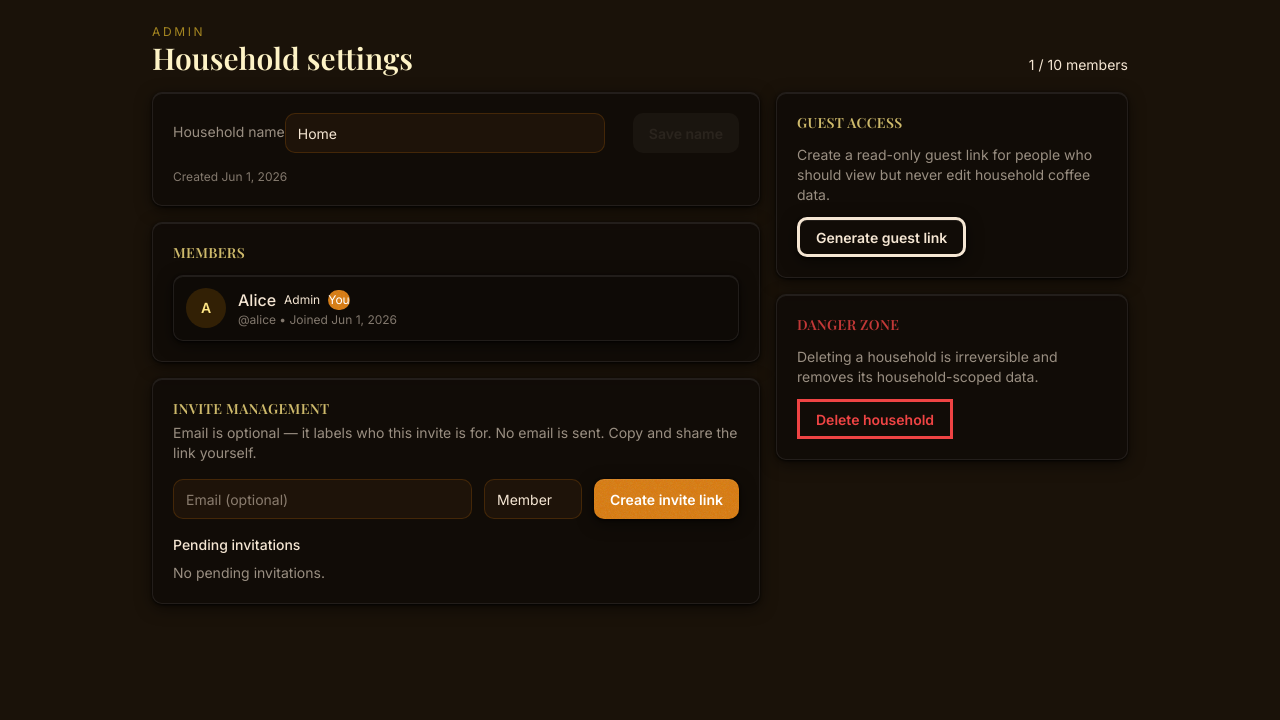
it: HouseholdSettings › wires rename and link-only invitation creation without TODO placeholders
Check: the heading "Household settings" is shown, box top-left (152, 40), bottom-right (413, 76)
Replace the text in the field labelled "Household name" with "Home Bar" at (445, 133), box top-left (285, 113), bottom-right (605, 153)
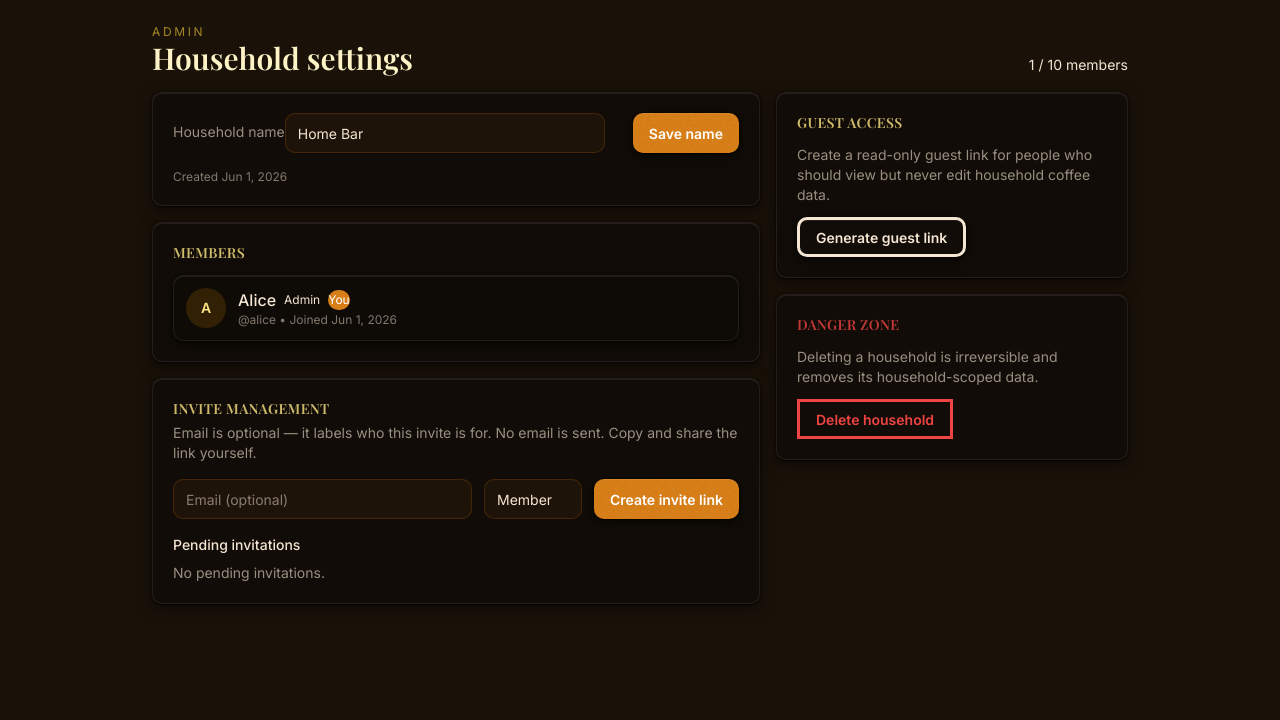
Click the button "Save name".
click(686, 133)  # box top-left (633, 113), bottom-right (739, 153)
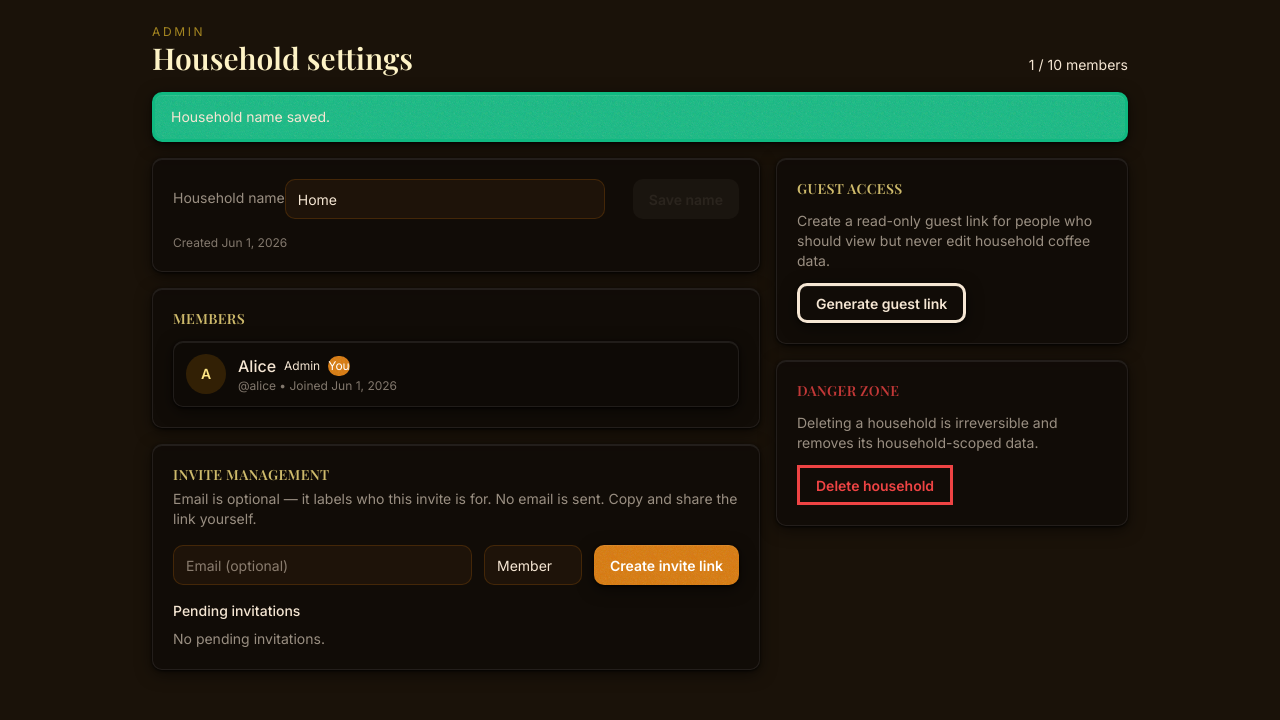
Click the button "Create invite link".
click(666, 565)  # box top-left (594, 545), bottom-right (739, 585)
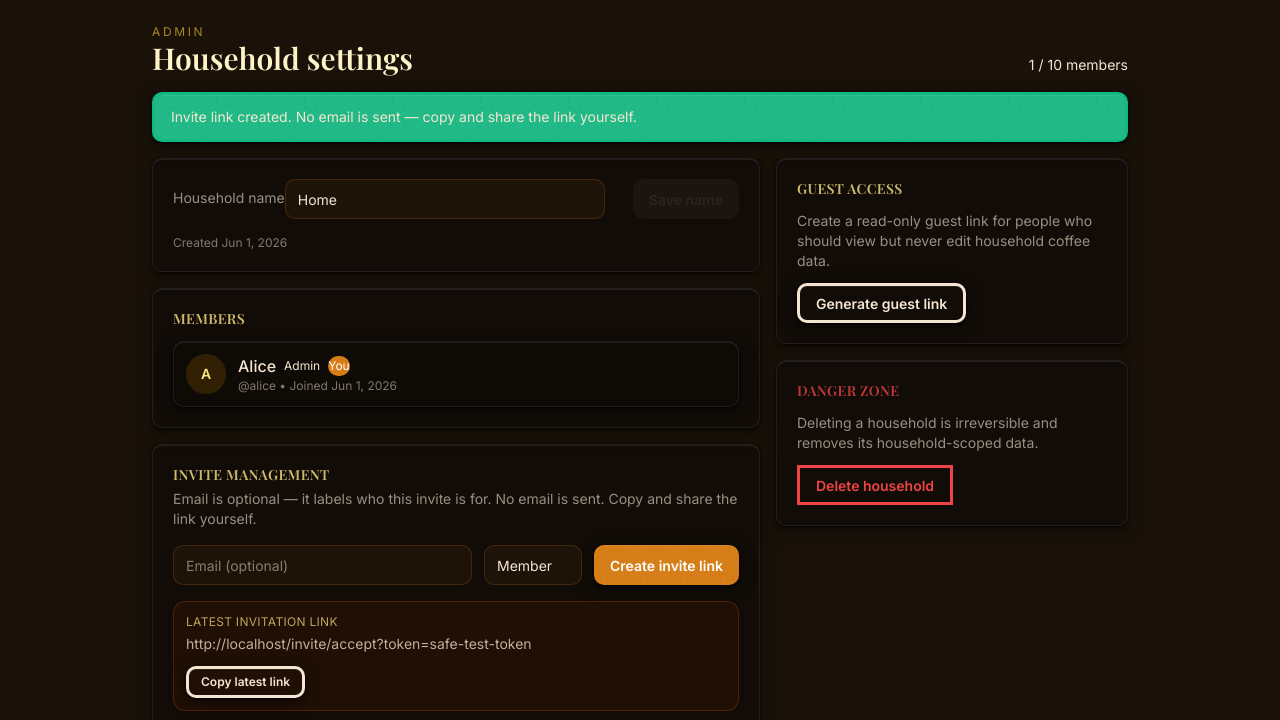
Check: the text "Latest invitation link" is shown, box top-left (186, 614), bottom-right (338, 629)
